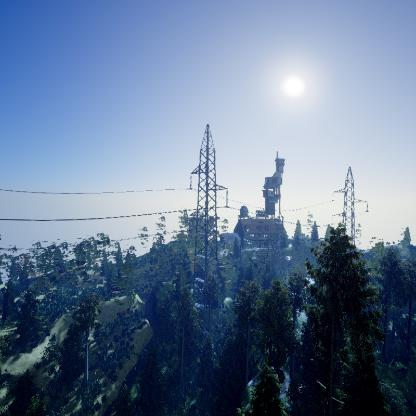tower: (185, 120, 233, 289), (331, 166, 369, 253)
